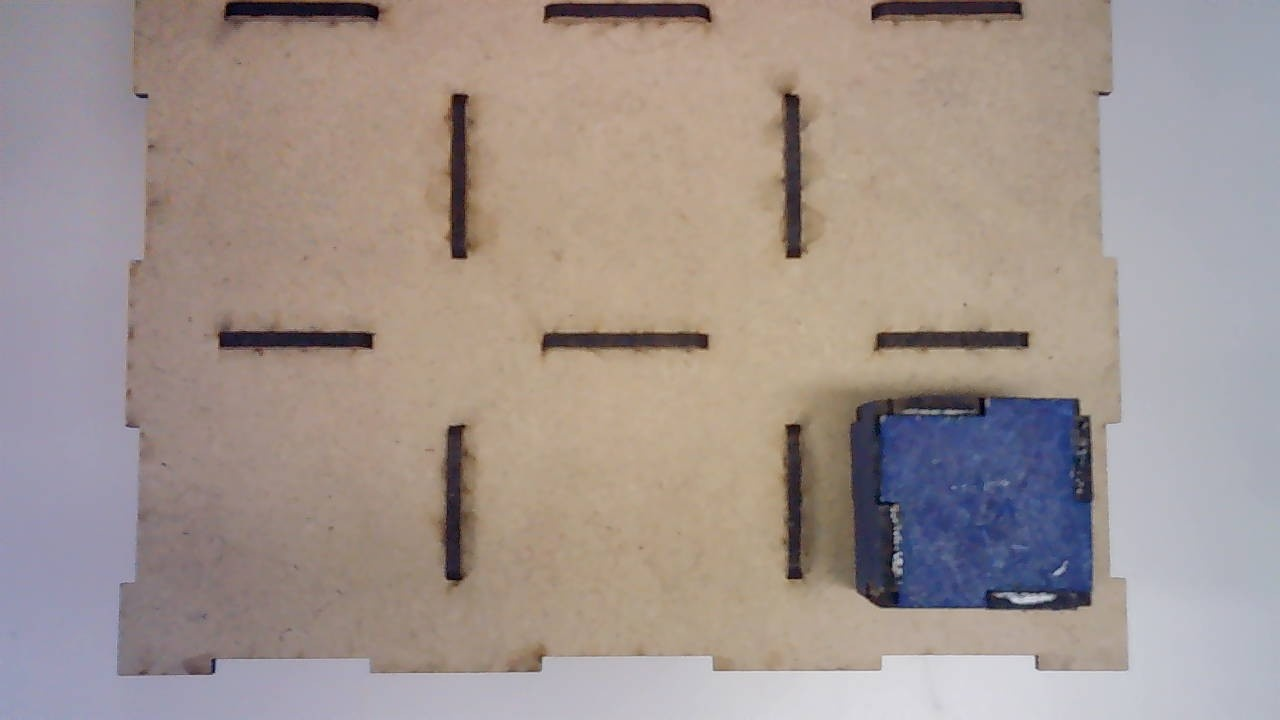blue box: (848, 394, 1094, 608)
